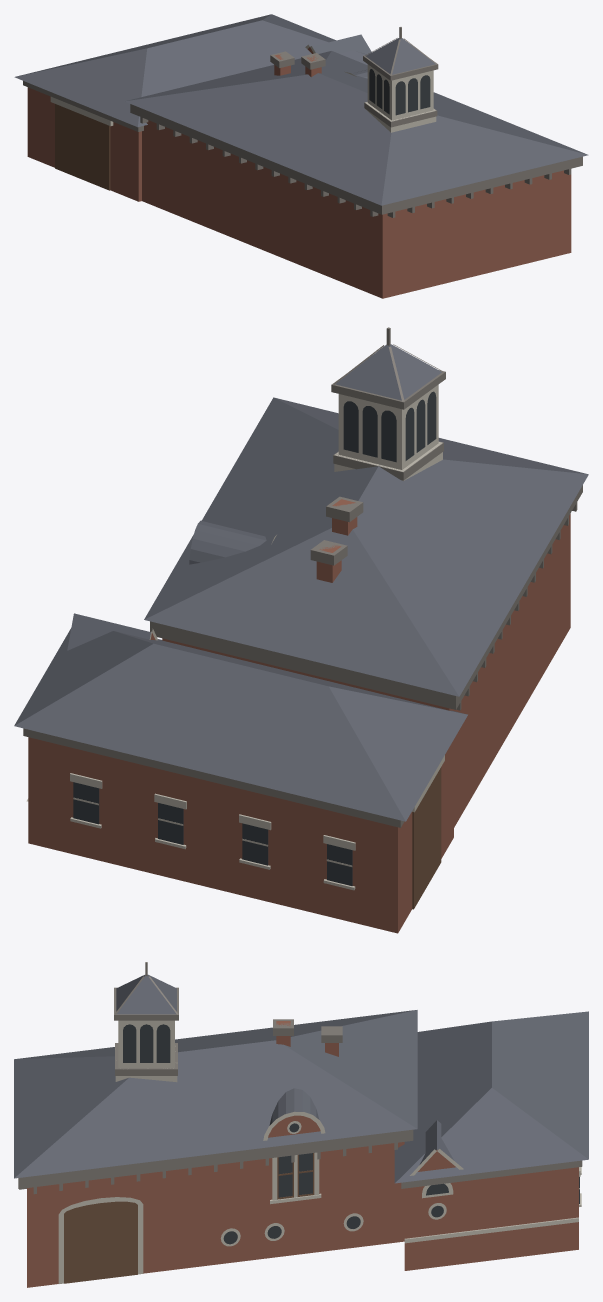
The model's file is hibbard_house_1701_prairie_coach_house__draft_1904.glb.
The picture shows the model from 3 angles, top to bottom: view 1: azimuth 30°, elevation 25°; view 2: azimuth 150°, elevation 25°; view 3: azimuth 270°, elevation 25°; orthographic projection. The views are drawn at different scales.
Parts seen in each view (by area): view 1: hibbard_house_1701_prairie_coach_house__draft_1904; view 2: hibbard_house_1701_prairie_coach_house__draft_1904; view 3: hibbard_house_1701_prairie_coach_house__draft_1904.
Part boxes in pixels (x1,y1,x2,y2): hibbard_house_1701_prairie_coach_house__draft_1904: [14, 14, 588, 298]; hibbard_house_1701_prairie_coach_house__draft_1904: [14, 327, 588, 933]; hibbard_house_1701_prairie_coach_house__draft_1904: [14, 962, 588, 1287].
Size of the model in its own units: 15.8 by 9.92 by 20.16.
